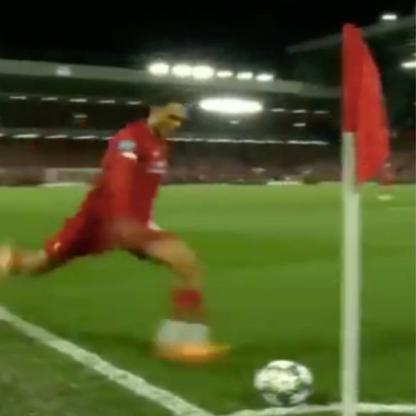corner kick: (66, 19, 416, 416)
